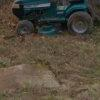Tractor: (7, 1, 100, 44)
